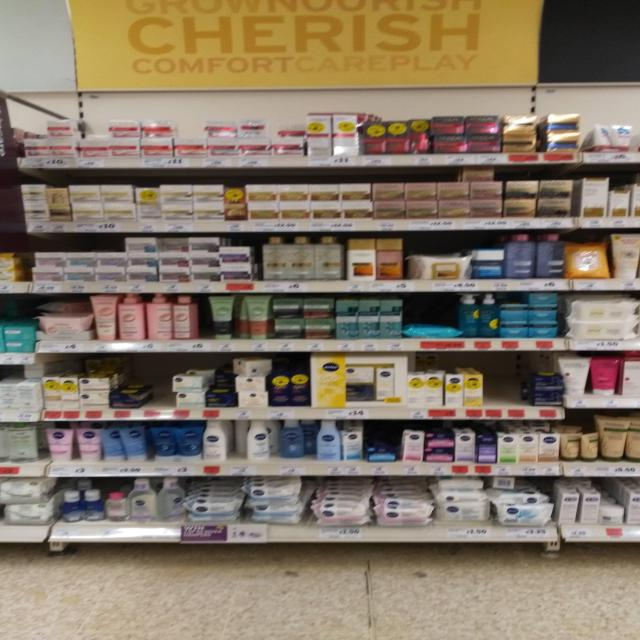empty: (485, 359, 520, 408), (152, 374, 172, 409)
